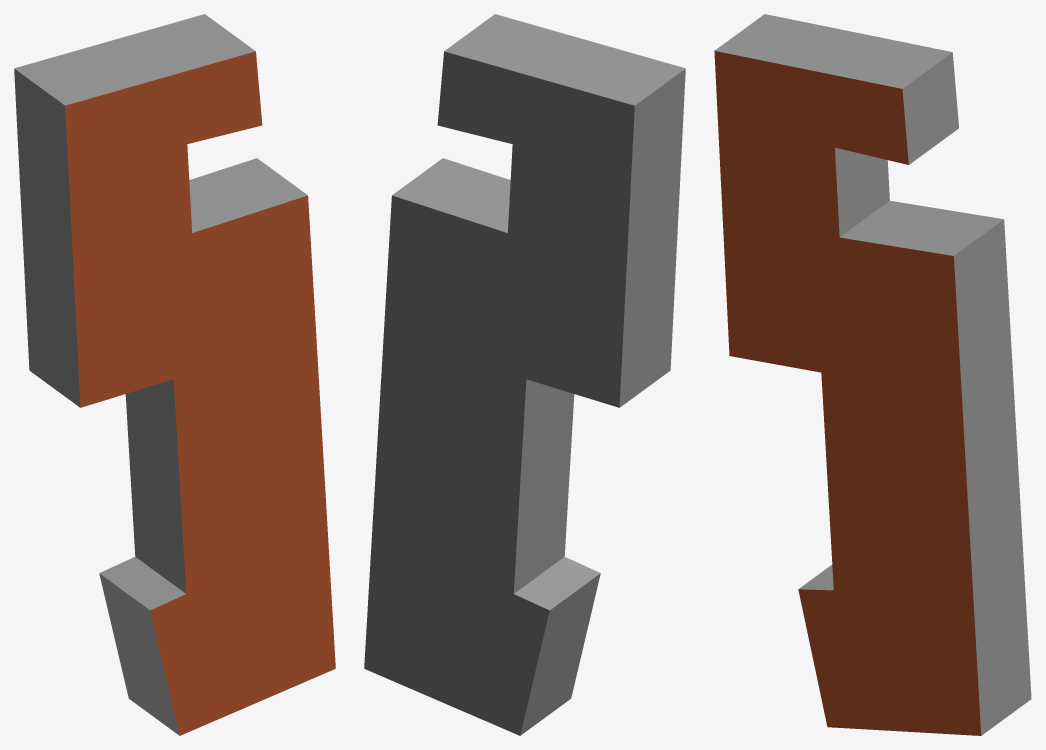
Rendered from construction_5183_assumed_A_Casa_h6m.obj.
3 views of the same model, side by side, from view 1: azimuth 30°, elevation 25°; view 2: azimuth 150°, elevation 25°; view 3: azimuth 330°, elevation 25° (orthographic).
Visible parts, largest first — view 1: construction_5183_assumed_A_Casa; view 2: construction_5183_assumed_A_Casa; view 3: construction_5183_assumed_A_Casa.
Part boxes in pixels (box(x1,y1,x2,y2)): construction_5183_assumed_A_Casa: box(14, 14, 335, 735); construction_5183_assumed_A_Casa: box(364, 14, 685, 735); construction_5183_assumed_A_Casa: box(714, 14, 1031, 735).
Size of the model in its own units: 18.38 by 43.21 by 6.
